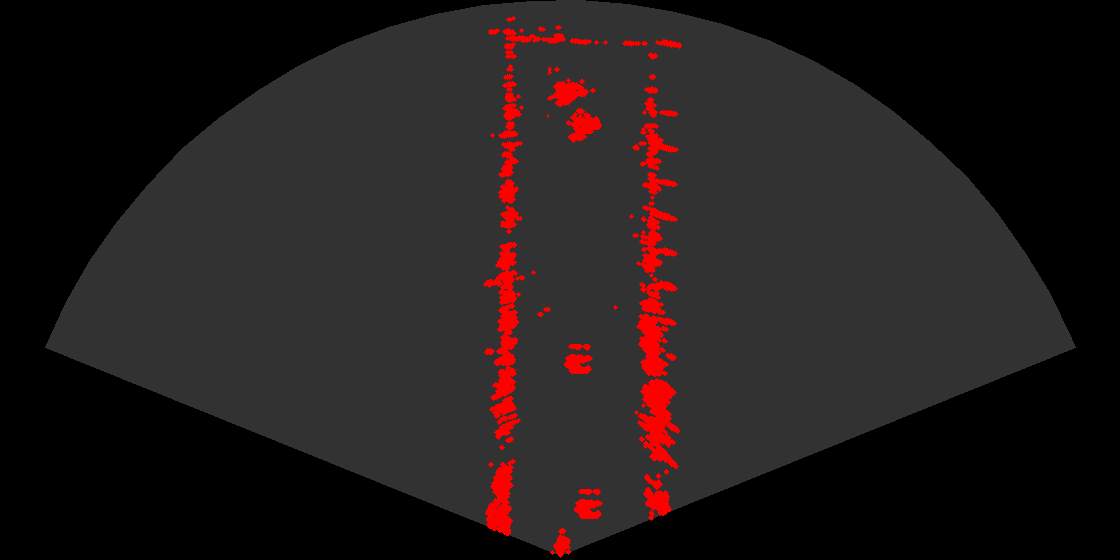ball: (554, 481, 614, 522), (544, 336, 604, 377)
cage: (547, 67, 610, 151)
